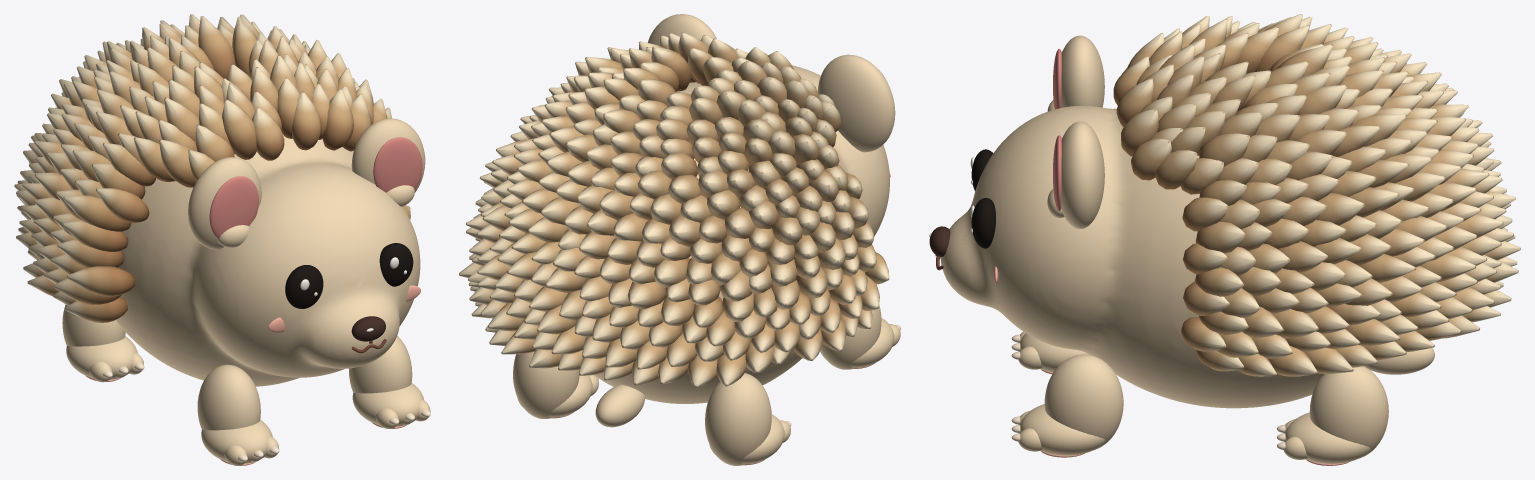
Rendered from hedgehog-stage-08.glb.
3 renders of one model, left to right at view 1: azimuth 30°, elevation 25°; view 2: azimuth 150°, elevation 25°; view 3: azimuth 270°, elevation 25°, orthographic. The views are drawn at different scales.
Parts seen in each view (by area): view 1: S08 • 323 individually formed rounded quills, S08 • seamless sculpted body and face, S08 • L front leg, S08 • L ear • outer rim, S08 • R front leg, S08 • L ear • recessed inner bowl, S08 • R ear • recessed inner bowl, S08 • R ear • outer rim, S08 • L rear paw, S08 • R front paw, S08 • L front paw, S08 • L rear leg (+4 smaller); view 2: S08 • 323 individually formed rounded quills, S08 • seamless sculpted body and face, S08 • L ear • outer rim, S08 • L rear leg, S08 • R rear leg, S08 • small tail, S08 • L front leg, S08 • R ear • outer rim, S08 • L rear paw, S08 • L front paw, S08 • R rear paw; view 3: S08 • 323 individually formed rounded quills, S08 • seamless sculpted body and face, S08 • R front leg, S08 • R rear leg, S08 • R ear • outer rim, S08 • L ear • outer rim, S08 • R front paw, S08 • R rear paw, S08 • small tail, S08 • R glossy eye, S08 • L front paw, S08 • R ear • recessed inner bowl.
Part boxes in pixels (<box>): S08 • 323 individually formed rounded quills: <box>14,14,410,322</box>; S08 • seamless sculpted body and face: <box>115,135,420,386</box>; S08 • L front leg: <box>197,364,260,430</box>; S08 • L ear • outer rim: <box>188,157,261,249</box>; S08 • R front leg: <box>349,336,412,393</box>; S08 • L ear • recessed inner bowl: <box>209,176,258,238</box>; S08 • R ear • recessed inner bowl: <box>373,137,422,192</box>; S08 • R ear • outer rim: <box>351,118,425,192</box>; S08 • L rear paw: <box>66,336,137,379</box>; S08 • R front paw: <box>352,383,423,426</box>; S08 • L front paw: <box>201,420,272,463</box>; S08 • L rear leg: <box>62,304,125,346</box>; S08 • 323 individually formed rounded quills: <box>459,32,889,387</box>; S08 • seamless sculpted body and face: <box>594,65,889,403</box>; S08 • L ear • outer rim: <box>818,54,895,152</box>; S08 • L rear leg: <box>705,373,771,465</box>; S08 • R rear leg: <box>513,351,579,418</box>; S08 • small tail: <box>595,384,645,427</box>; S08 • L front leg: <box>820,305,881,369</box>; S08 • R ear • outer rim: <box>647,14,716,45</box>; S08 • L rear paw: <box>709,414,784,464</box>; S08 • L front paw: <box>820,318,894,368</box>; S08 • R rear paw: <box>518,375,592,417</box>; S08 • 323 individually formed rounded quills: <box>1113,14,1520,376</box>; S08 • seamless sculpted body and face: <box>940,105,1364,408</box>; S08 • R front leg: <box>1044,354,1123,449</box>; S08 • R rear leg: <box>1309,366,1388,458</box>; S08 • R ear • outer rim: <box>1061,121,1104,228</box>; S08 • L ear • outer rim: <box>1061,35,1104,107</box>; S08 • R front paw: <box>1020,404,1105,455</box>; S08 • R rear paw: <box>1285,412,1371,463</box>; S08 • small tail: <box>1365,348,1434,374</box>; S08 • R glossy eye: <box>971,198,995,248</box>; S08 • L front paw: <box>1020,333,1088,372</box>; S08 • R ear • recessed inner bowl: <box>1053,135,1061,210</box>.
Bounding box in the file's own units: 2.07 × 1.85 × 2.68.
9 materials, 9 textured.
